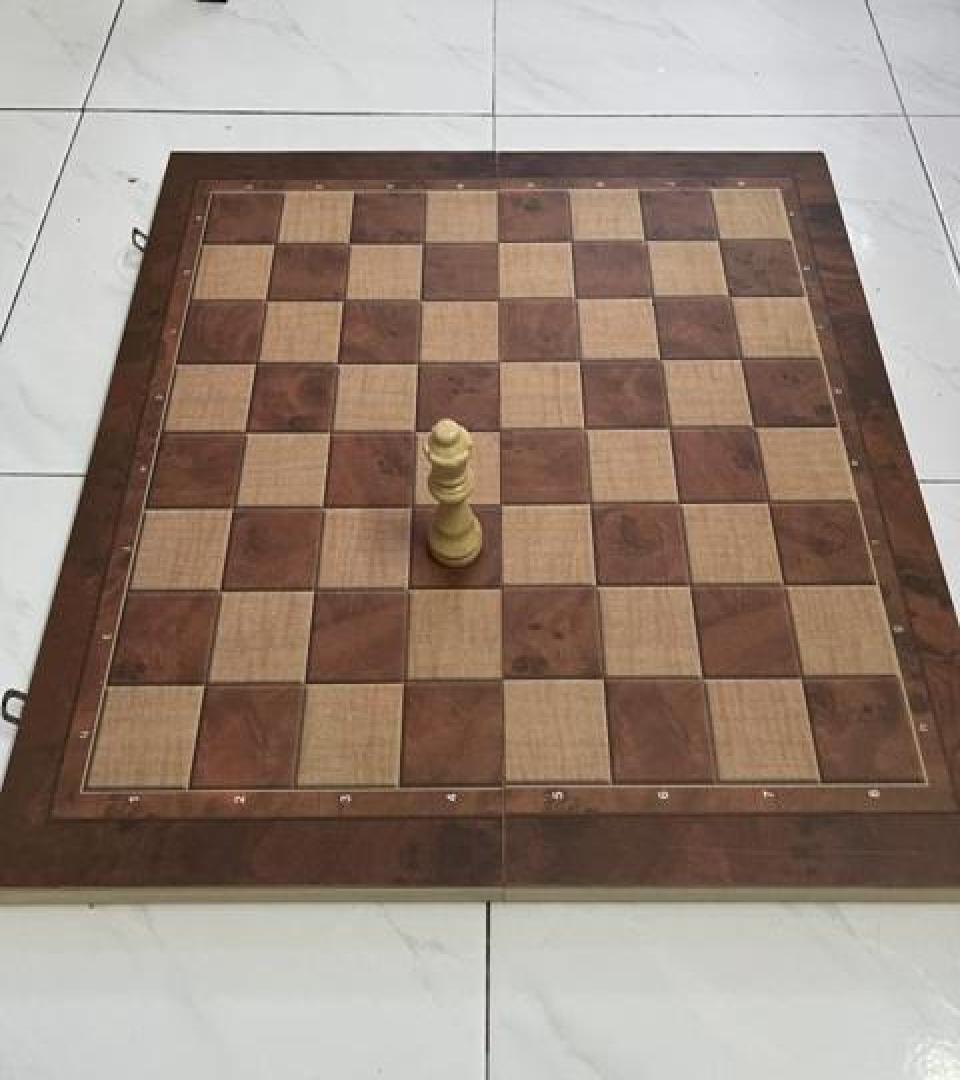xcorner: (736, 407, 772, 448), (651, 407, 687, 448), (567, 408, 603, 449), (482, 408, 518, 449), (397, 408, 433, 449), (203, 568, 239, 609), (685, 658, 721, 699), (586, 658, 622, 699), (486, 659, 522, 700), (387, 659, 423, 700), (288, 660, 324, 701), (189, 660, 225, 701), (700, 221, 736, 261), (626, 222, 662, 262), (553, 222, 589, 262), (479, 222, 515, 262), (405, 222, 441, 262), (331, 223, 367, 263), (257, 223, 293, 263), (711, 278, 747, 318), (634, 278, 670, 318), (557, 278, 593, 318), (480, 279, 516, 319), (403, 279, 439, 319), (325, 279, 361, 319), (248, 279, 284, 319), (723, 340, 759, 380), (642, 340, 678, 380), (562, 340, 598, 380), (481, 341, 517, 381), (400, 341, 436, 381), (319, 341, 355, 381), (239, 341, 275, 381), (313, 410, 349, 450), (228, 410, 264, 450), (750, 483, 786, 523), (661, 483, 697, 523), (572, 483, 608, 523), (483, 484, 519, 524), (394, 484, 430, 524), (305, 484, 341, 524), (216, 485, 252, 525), (766, 565, 802, 605), (672, 566, 708, 606), (579, 566, 615, 606), (485, 566, 521, 606), (391, 567, 427, 607), (297, 567, 333, 607), (784, 657, 820, 697)
